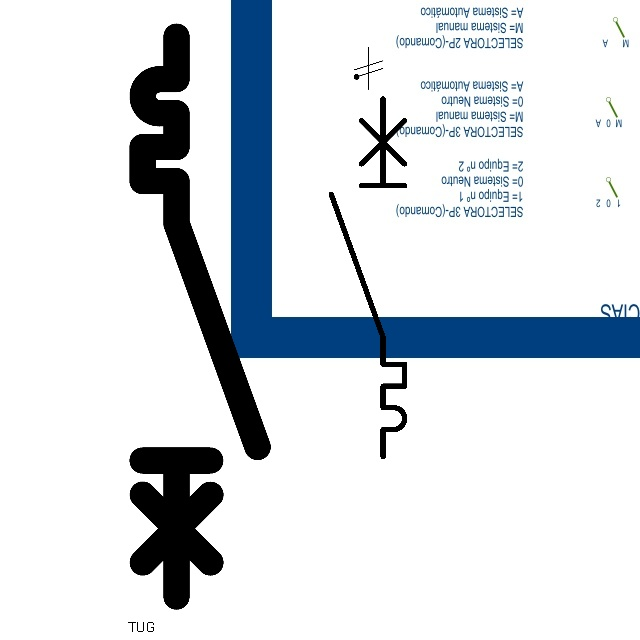interruptor_termomagnetico: (128, 22, 272, 611), (322, 89, 414, 466)
